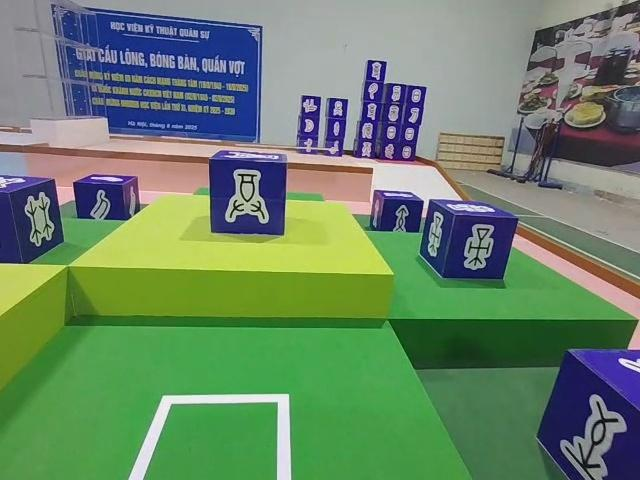R2 Real Blue: (534, 351, 639, 480), (422, 199, 520, 280), (206, 148, 287, 236), (0, 176, 62, 266), (70, 176, 139, 224), (367, 191, 423, 235)
